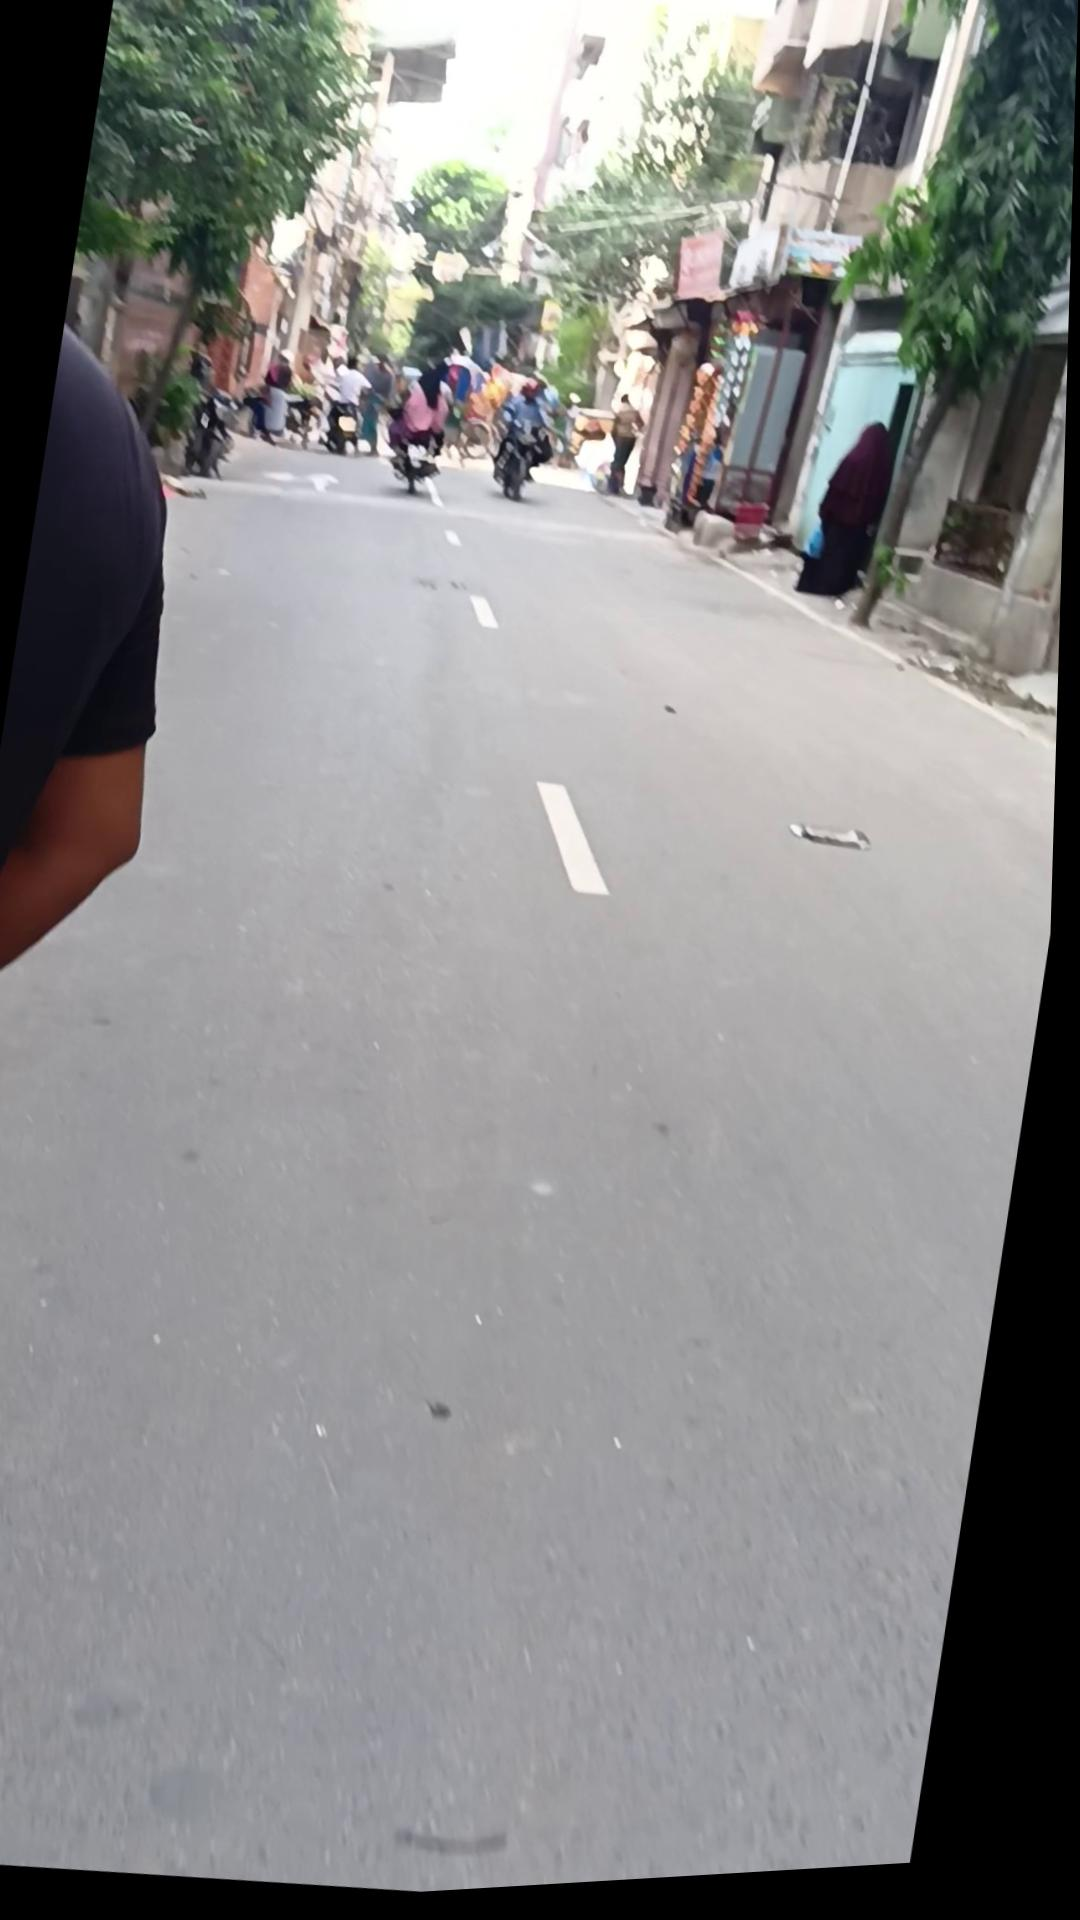Construction-barrier: (487, 422, 553, 512)
Curb: (0, 316, 219, 1009), (796, 422, 903, 613)
Light-pole: (781, 0, 1079, 665), (47, 0, 397, 479)
